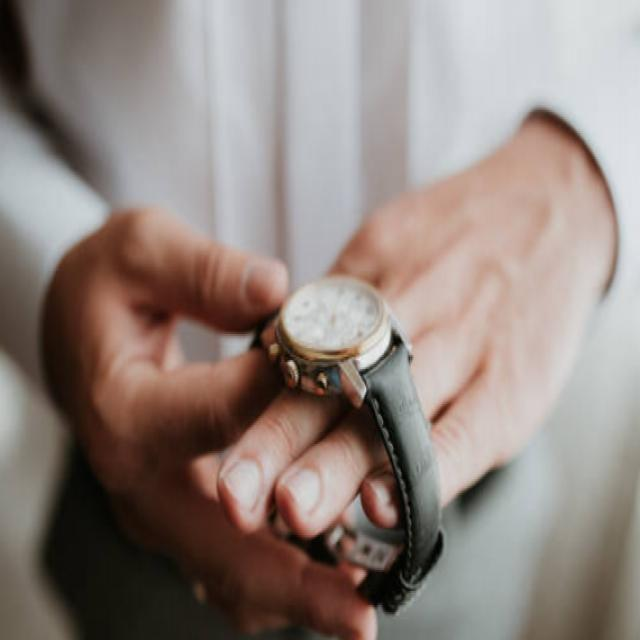Watch: (254, 270, 444, 612)
